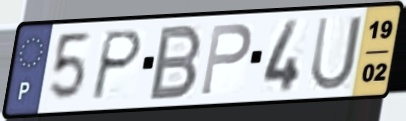4: (260, 17, 304, 95)
5: (47, 30, 93, 105)
B: (146, 22, 206, 103)
P: (88, 28, 145, 104), (198, 22, 254, 98)
U: (307, 13, 365, 93)
